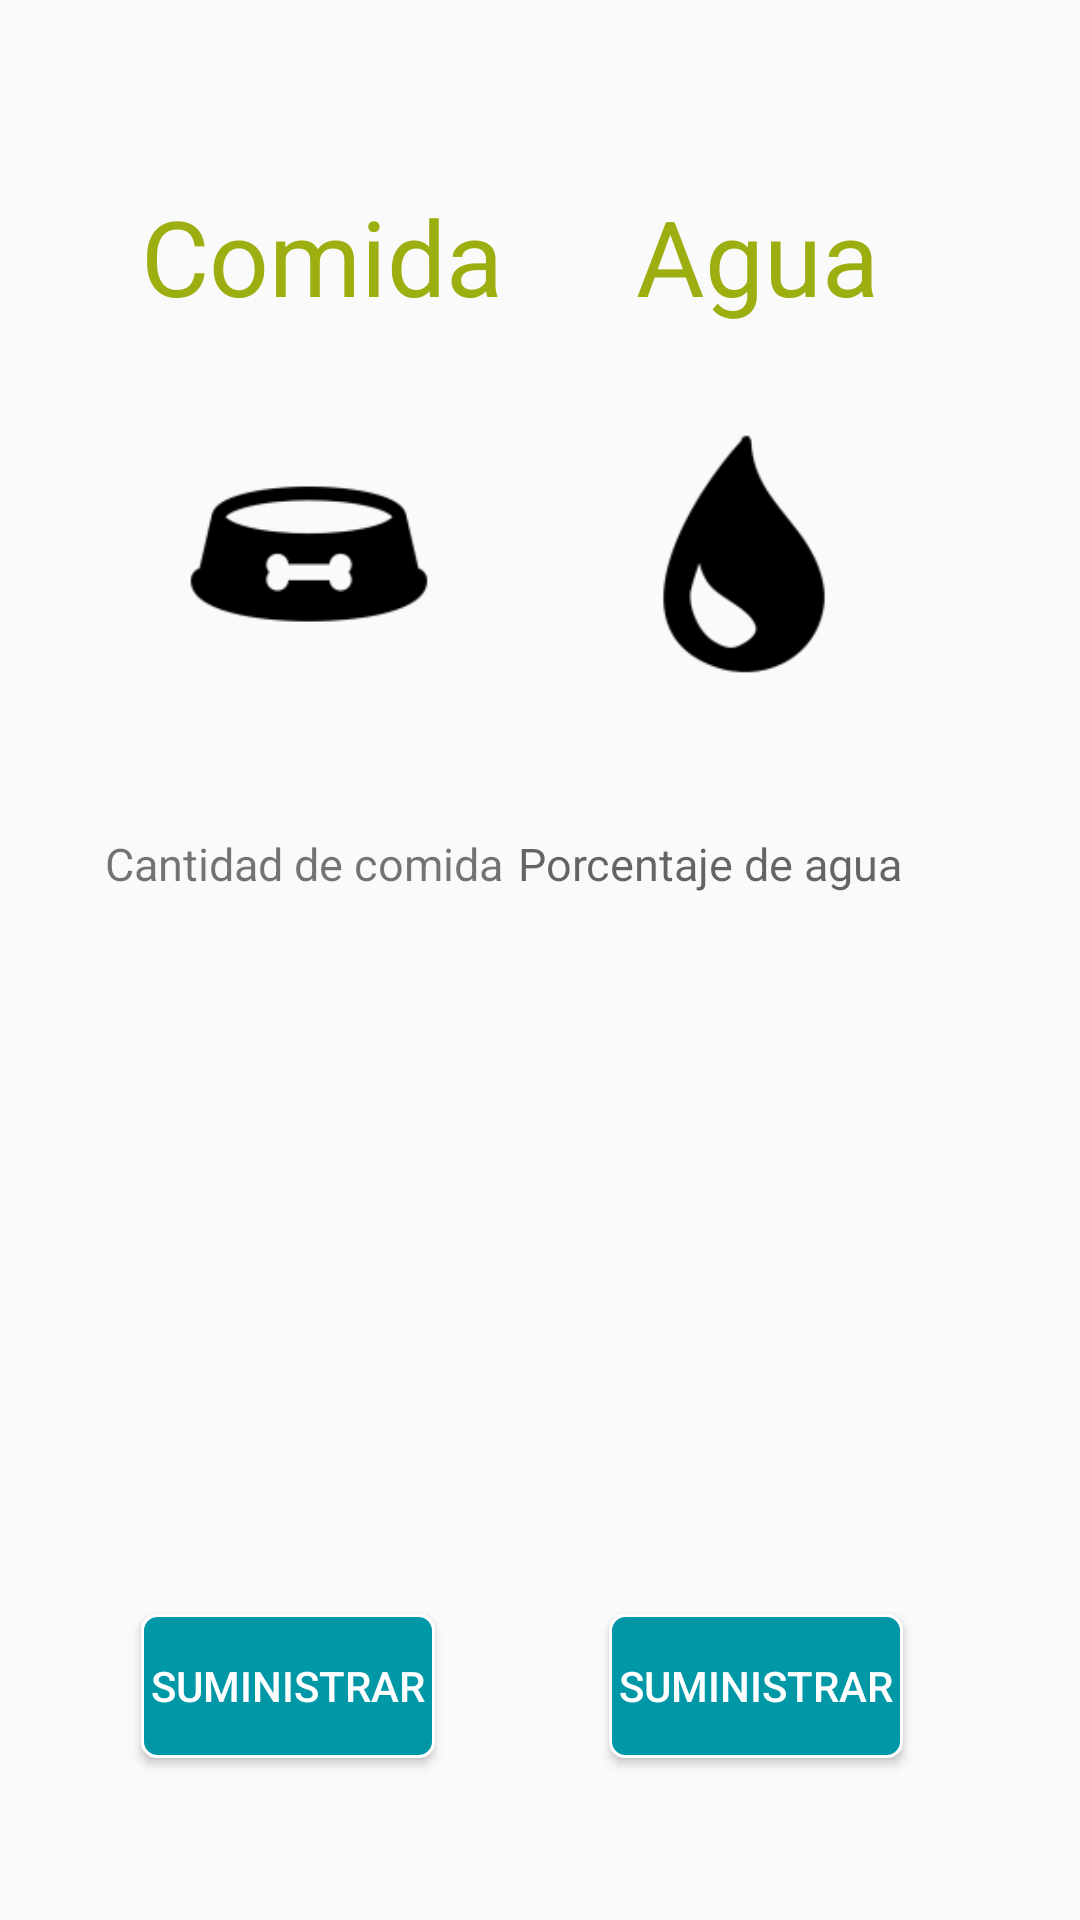

Icon bounding boxes for this 1080×1920 phone screenshot, format (x1, y1, x2, y2):
food: (190, 486, 428, 622)
water: (663, 435, 825, 673)
